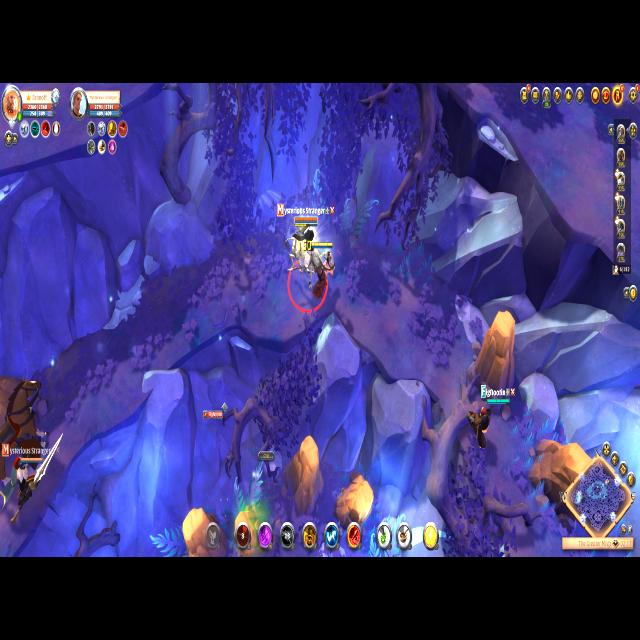red: (276, 205, 338, 303), (1, 440, 58, 534), (464, 380, 515, 464), (302, 233, 334, 318)
tree: (520, 428, 601, 532), (466, 300, 525, 415), (288, 421, 328, 524), (333, 465, 376, 536), (176, 499, 225, 556), (225, 505, 268, 555)
